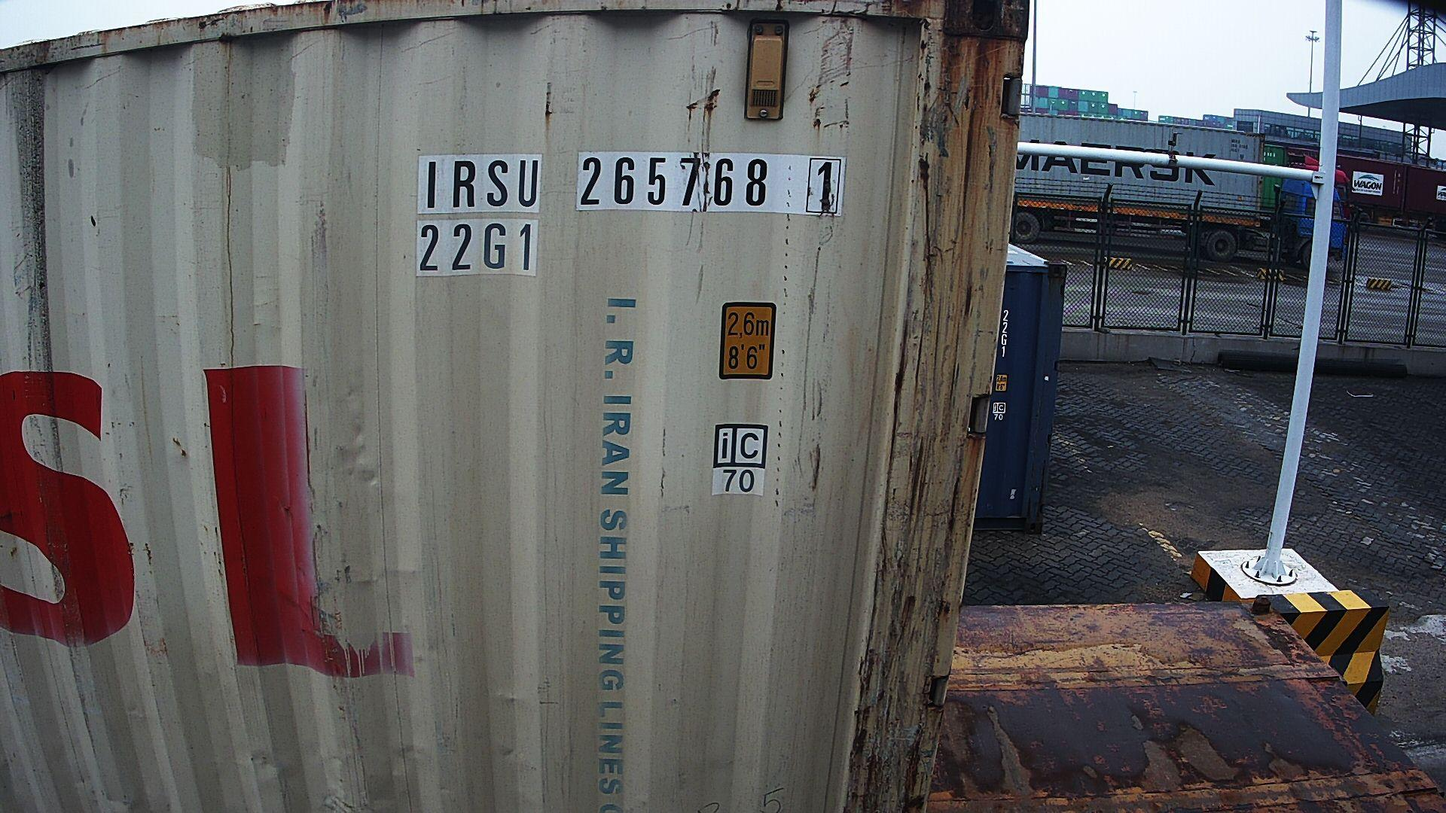container-numbers: (414, 150, 851, 218), (414, 218, 539, 279)
